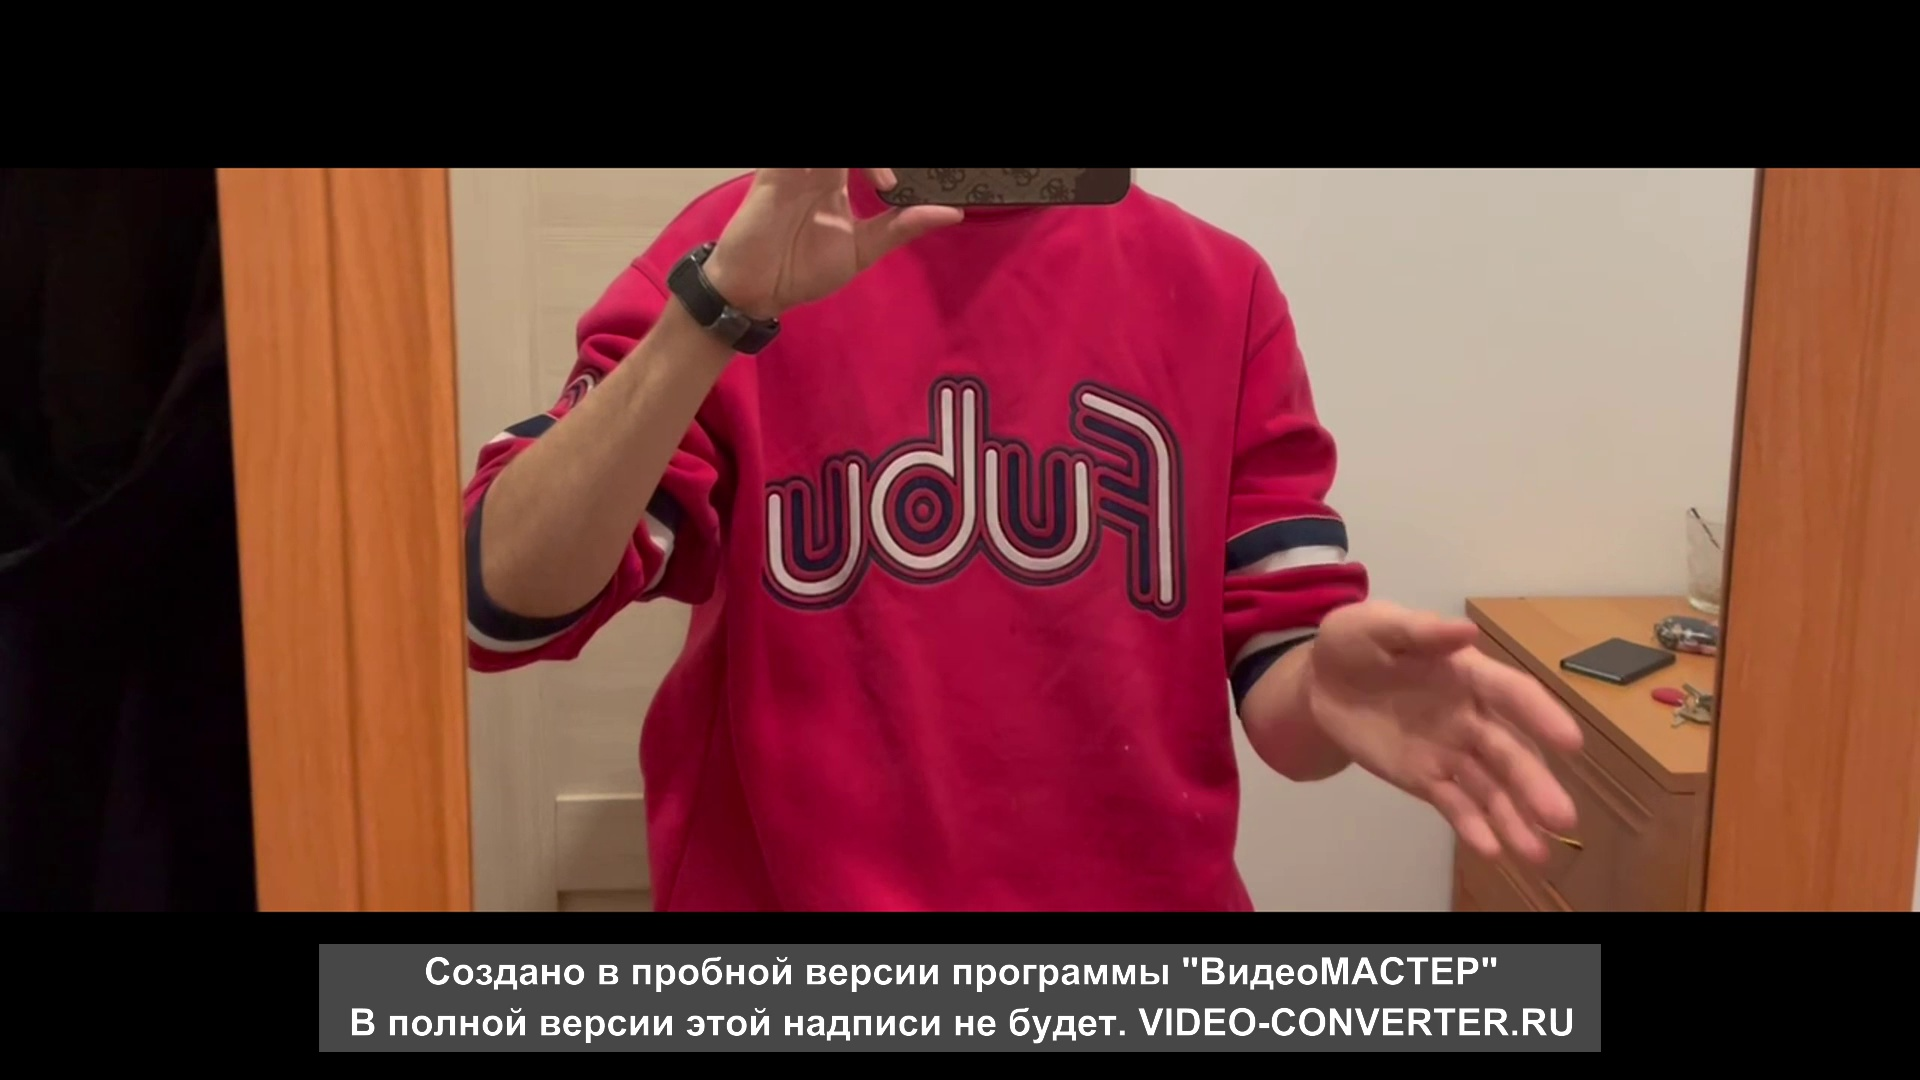Ладонь: (1313, 600, 1582, 868)
